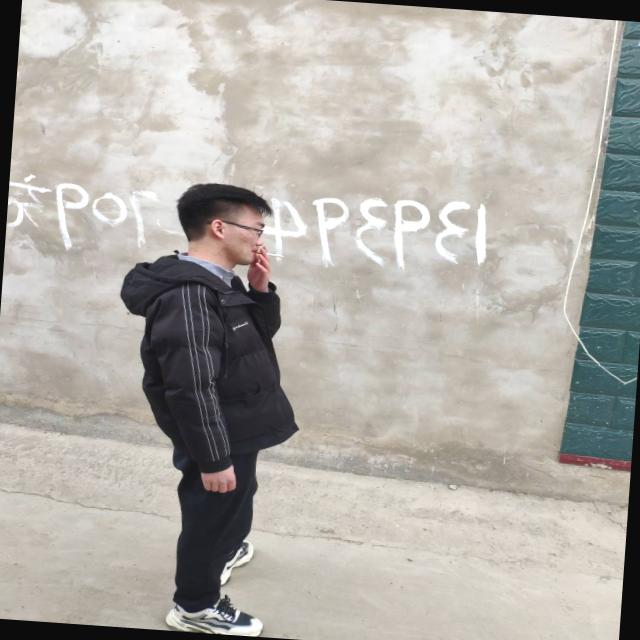smoke: (256, 247, 286, 257)
